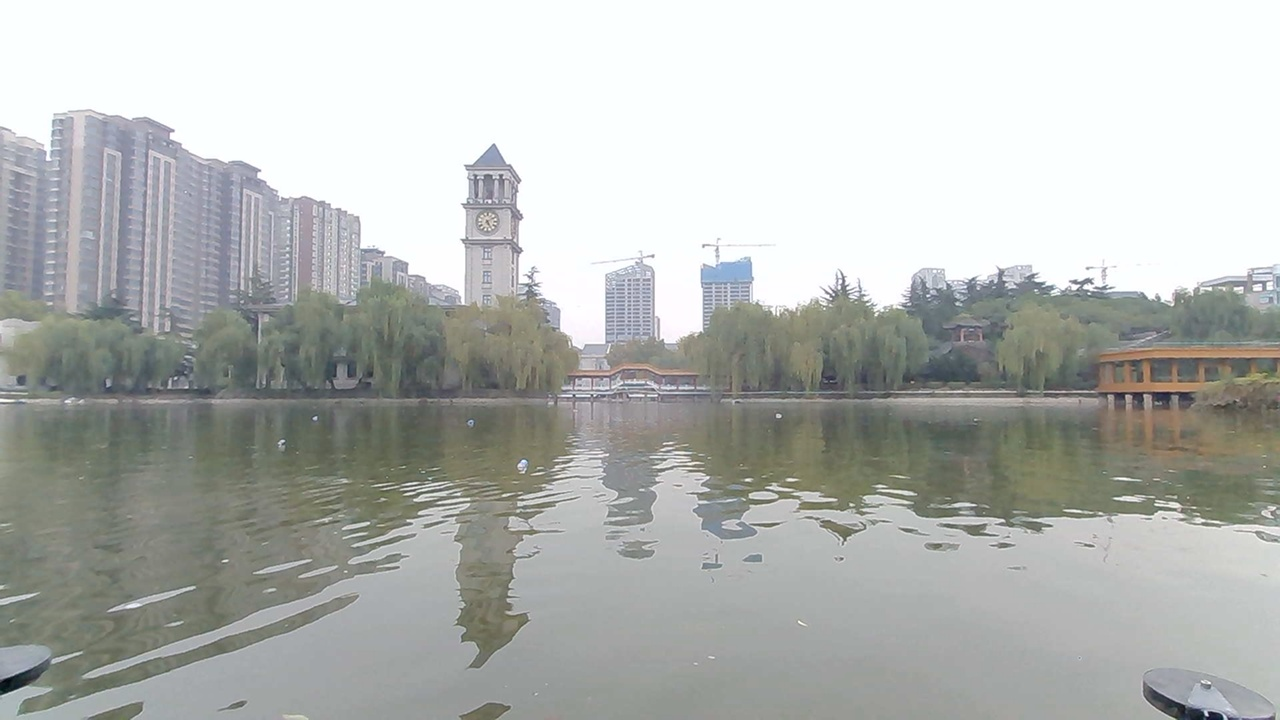bottle: (492, 447, 552, 480), (265, 429, 306, 452), (762, 405, 801, 428), (460, 407, 497, 431), (287, 405, 323, 429)
